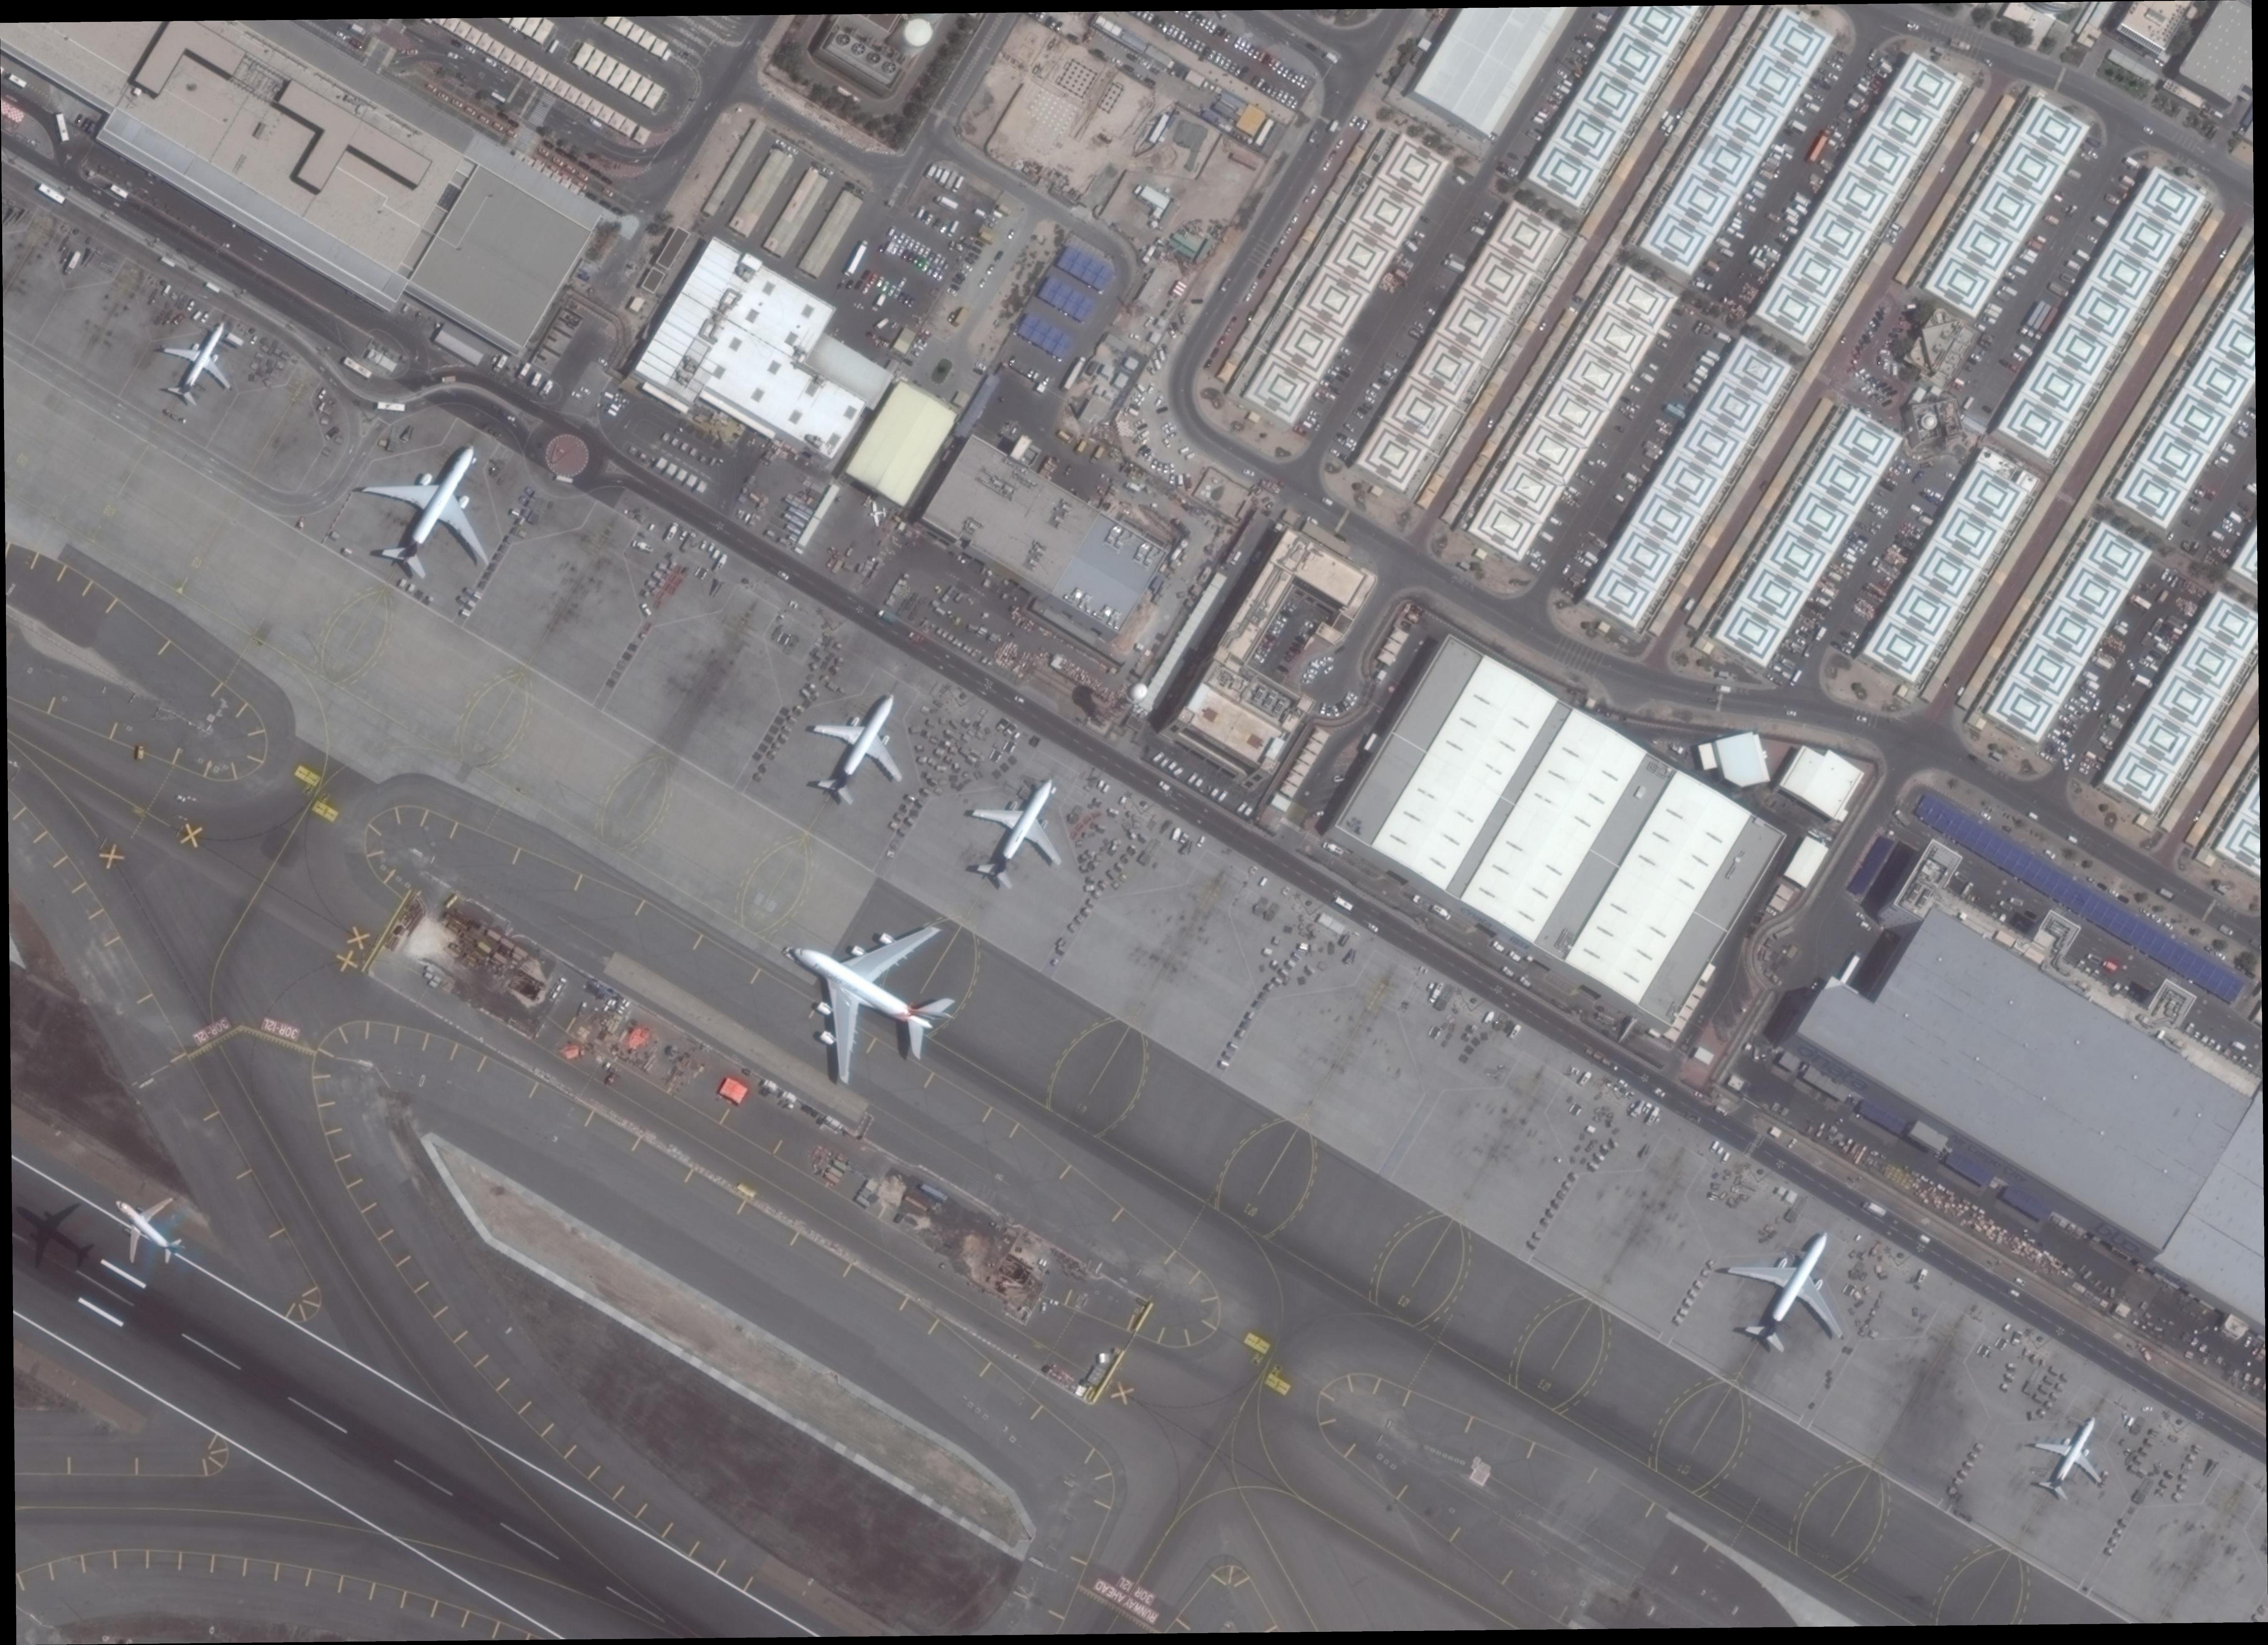plane: (740, 863, 991, 1115), (328, 407, 544, 609), (1697, 1192, 1889, 1379), (940, 750, 1101, 907), (780, 669, 942, 824), (141, 301, 261, 417), (90, 1168, 206, 1286), (2016, 1397, 2131, 1511), (865, 498, 889, 528)
